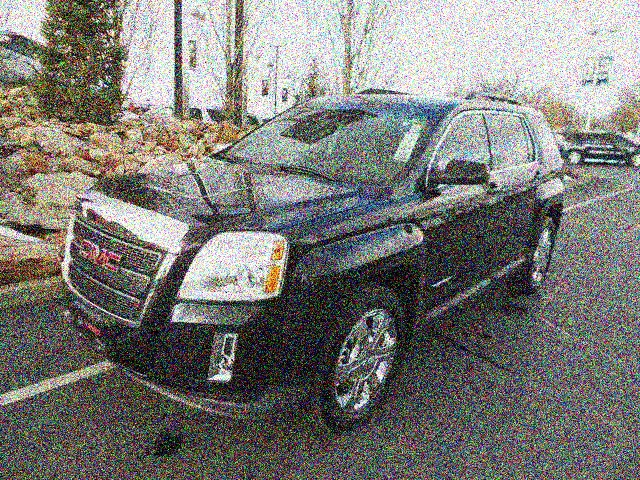car: (45, 63, 574, 452)
